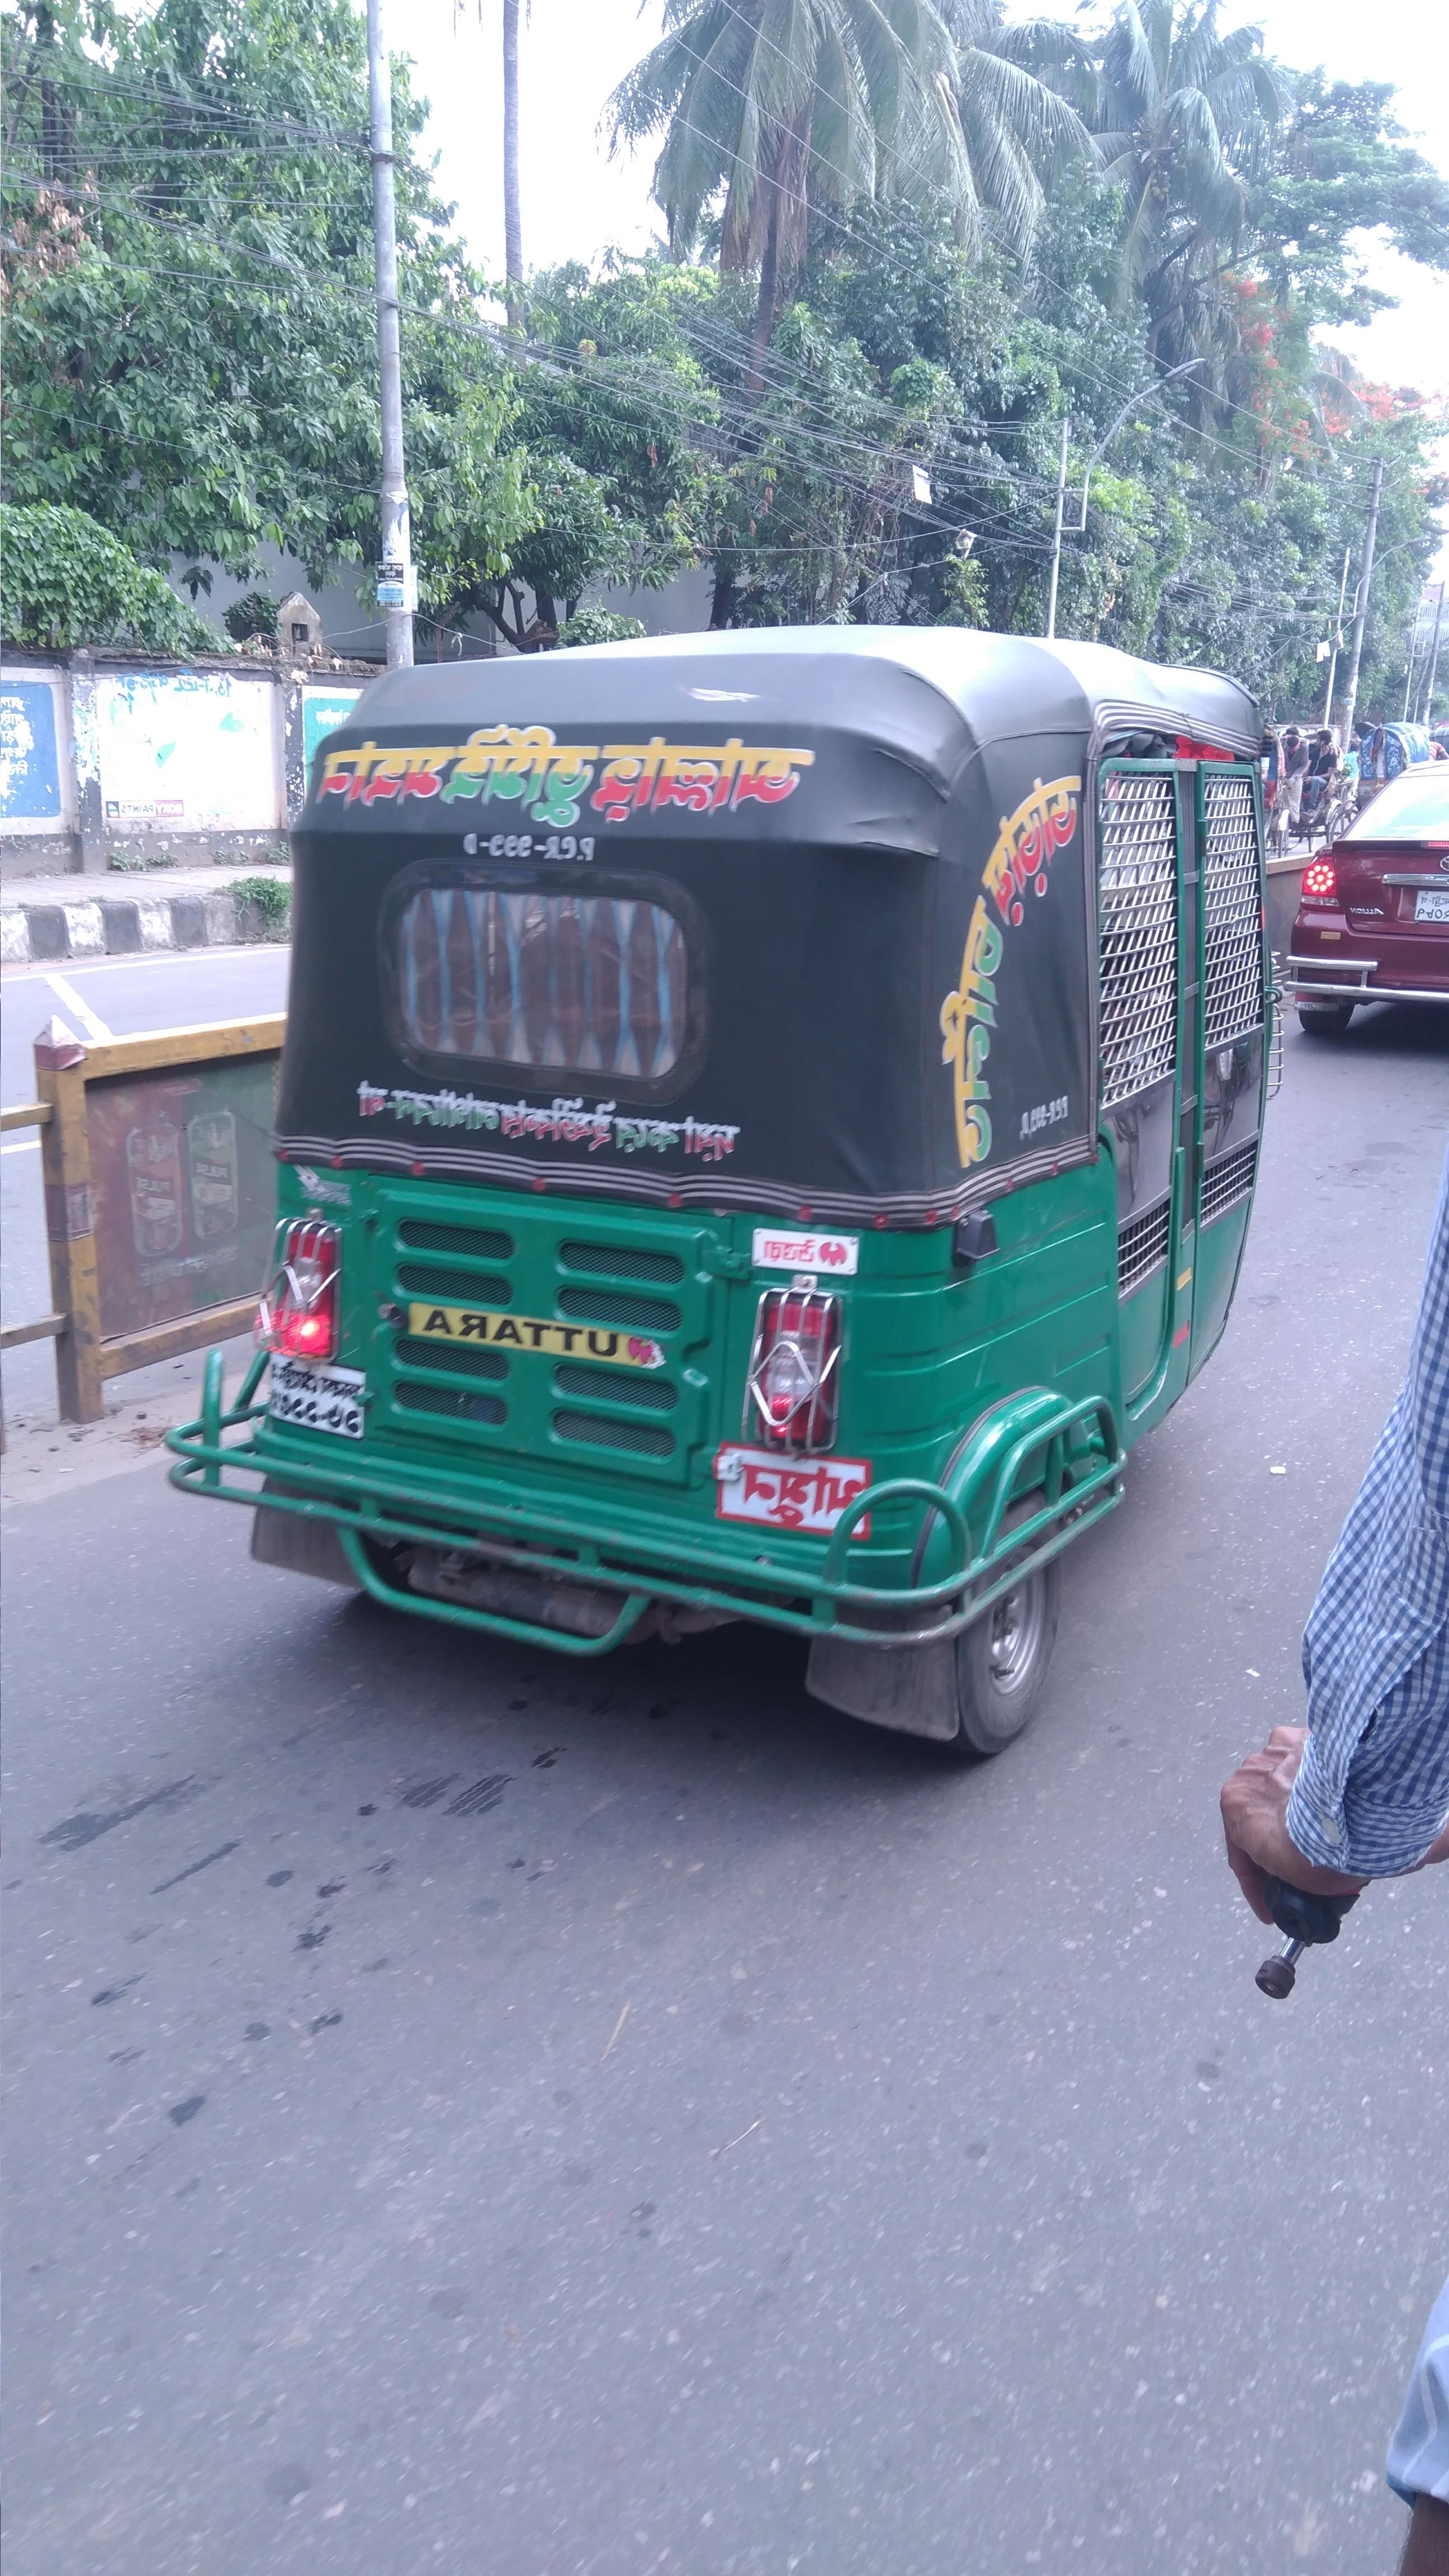car: (1261, 720, 1449, 1074)
cng: (168, 598, 1323, 1773)
